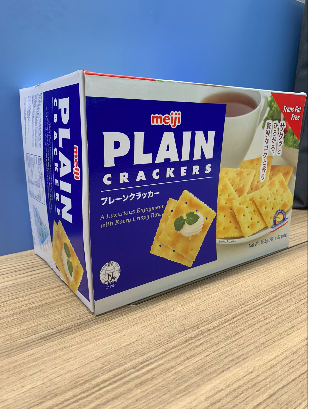Crackers_800-899g: (52, 89, 285, 254)
